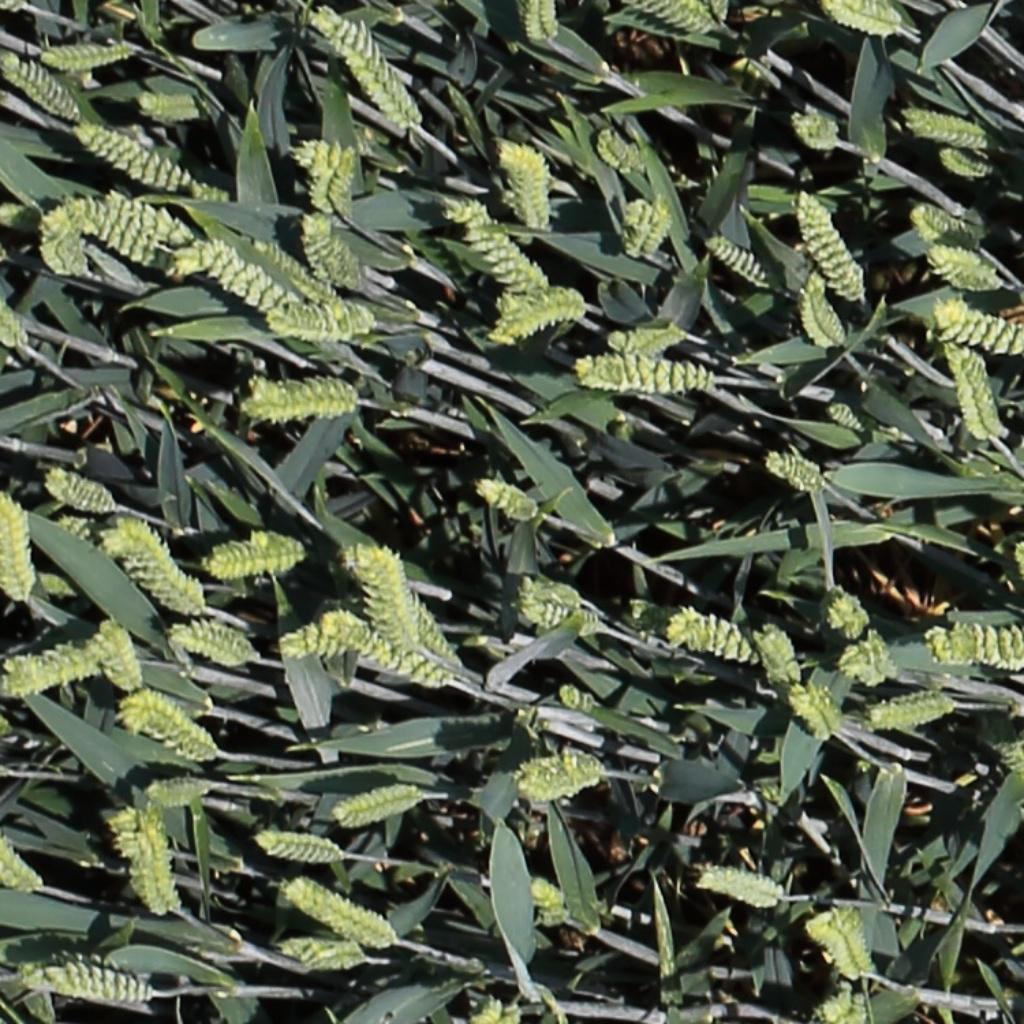0-0: (102, 515, 208, 620), (73, 118, 206, 195), (323, 608, 448, 689), (334, 20, 419, 133), (790, 184, 862, 300), (344, 541, 419, 650), (451, 204, 547, 289), (285, 882, 395, 952), (178, 241, 286, 311), (23, 953, 156, 1007), (118, 803, 176, 920), (485, 285, 586, 347), (946, 344, 1009, 443), (1, 636, 103, 696), (251, 237, 338, 307), (118, 696, 212, 760), (932, 296, 1024, 360), (659, 608, 759, 666), (62, 195, 187, 241), (573, 352, 705, 395), (201, 529, 307, 580), (802, 912, 874, 985), (236, 379, 377, 416), (299, 206, 361, 290), (2, 53, 79, 120), (266, 297, 373, 345), (75, 218, 170, 268), (514, 748, 603, 800), (554, 684, 632, 741), (931, 625, 1024, 672), (331, 783, 426, 829), (211, 682, 267, 760), (798, 267, 847, 354), (166, 620, 253, 668), (696, 862, 786, 908), (1, 487, 36, 604), (39, 203, 90, 278), (94, 615, 141, 696), (749, 621, 800, 693), (703, 233, 771, 286), (410, 600, 461, 670), (785, 682, 839, 748), (278, 937, 374, 974), (509, 137, 547, 230), (869, 690, 953, 732), (246, 832, 341, 868), (628, 188, 674, 262), (901, 106, 988, 144), (43, 469, 116, 513), (525, 600, 605, 640), (823, 1, 904, 40), (927, 245, 1000, 288), (910, 202, 981, 245), (841, 632, 894, 689), (39, 42, 138, 72), (1, 830, 45, 897), (592, 122, 643, 176), (472, 479, 537, 520), (139, 774, 206, 812), (820, 588, 866, 643), (632, 1, 715, 31), (273, 620, 333, 661), (761, 453, 824, 491), (789, 110, 841, 155), (310, 2, 357, 50), (608, 326, 681, 354), (515, 581, 584, 610), (937, 144, 996, 177), (816, 988, 870, 1024), (0, 292, 31, 350), (474, 990, 526, 1024), (135, 94, 200, 118), (527, 0, 558, 49), (533, 878, 564, 925), (292, 141, 349, 166), (824, 401, 865, 432), (995, 735, 1024, 765), (1013, 539, 1024, 579)
